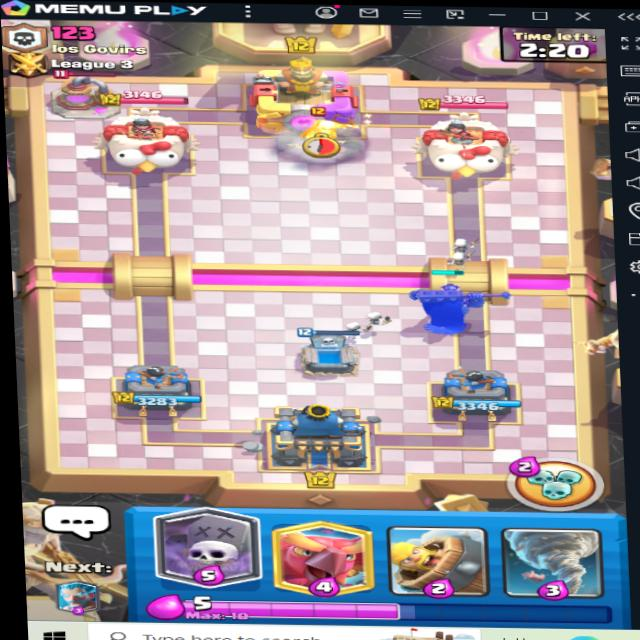elixir-collector: (47, 67, 116, 119)
magic-archer: (291, 115, 356, 160)
